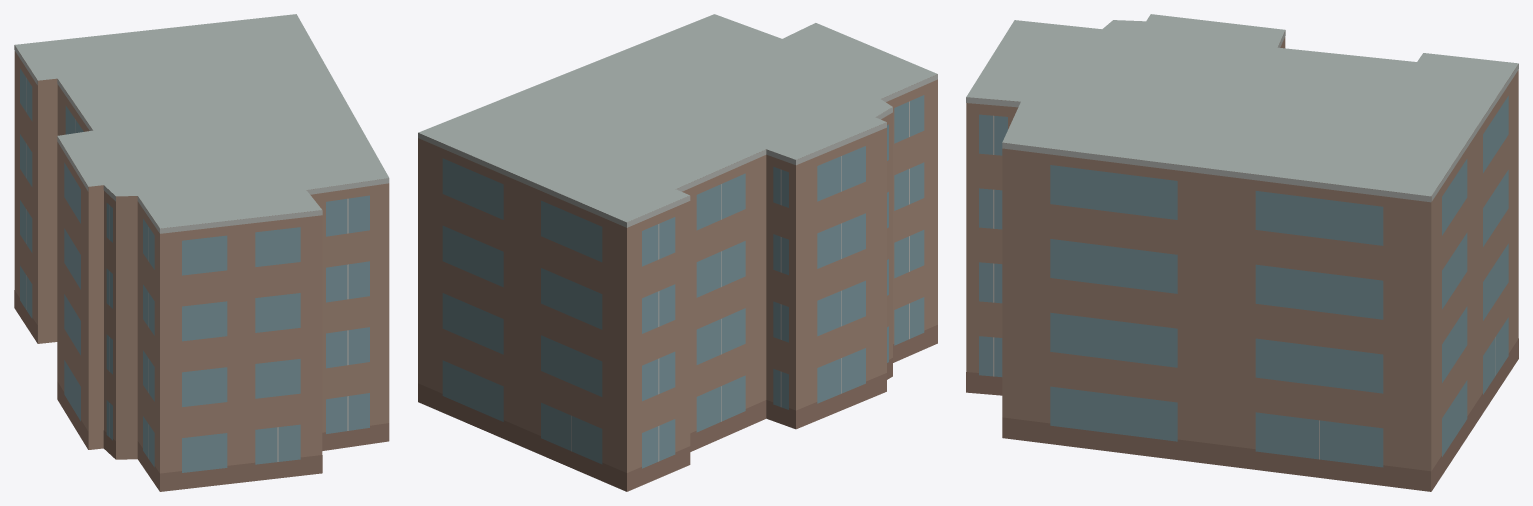
The model's file is survey-upis-32932901.glb.
3 views of the same model, side by side, from view 1: azimuth 30°, elevation 25°; view 2: azimuth 150°, elevation 25°; view 3: azimuth 270°, elevation 25° (orthographic). The views are drawn at different scales.
Parts seen in each view (by area): view 1: survey-upis-32932901.tmp; view 2: survey-upis-32932901.tmp; view 3: survey-upis-32932901.tmp.
Part boxes in pixels (<box>): survey-upis-32932901.tmp: <box>14,14,389,491</box>; survey-upis-32932901.tmp: <box>418,14,937,491</box>; survey-upis-32932901.tmp: <box>966,14,1518,491</box>.
Bounding box in the file's own units: 16.17 × 12.2 × 20.69.
